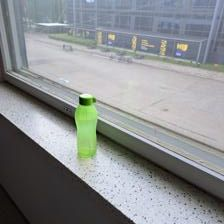bottle: (71, 90, 101, 160)
